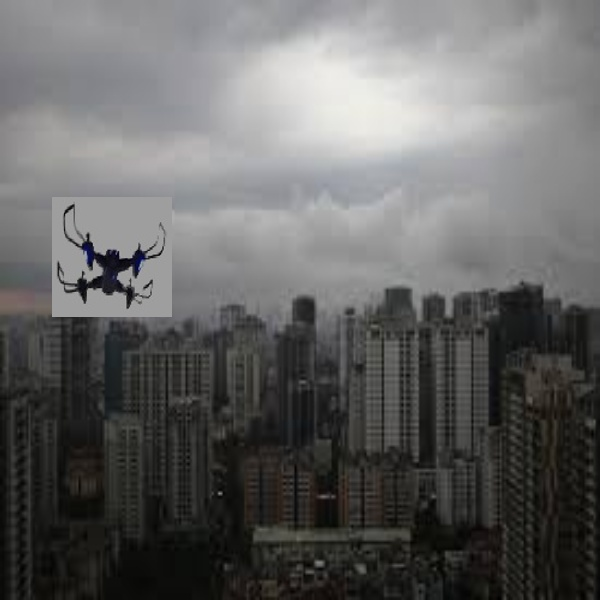drone: (48, 197, 174, 315)
